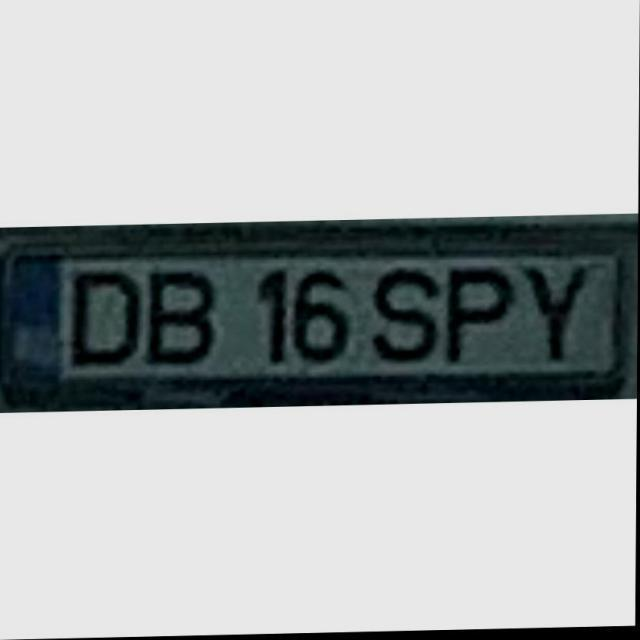license-plates: (0, 216, 636, 405)
